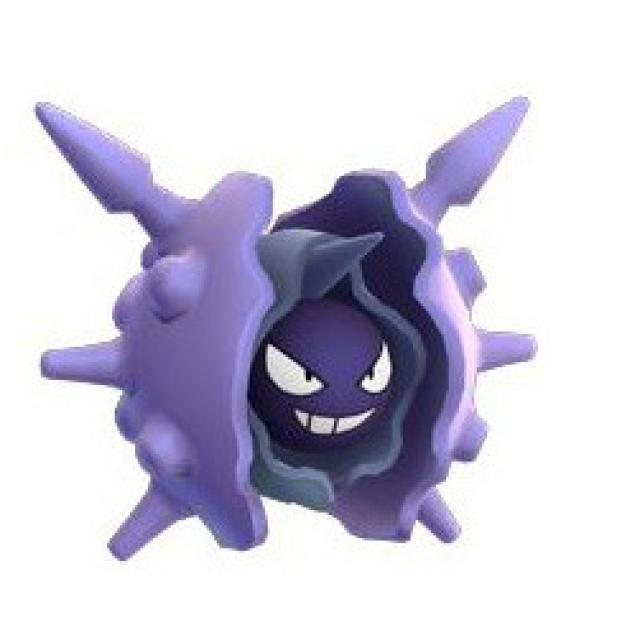Cloyster: (28, 103, 530, 562)
